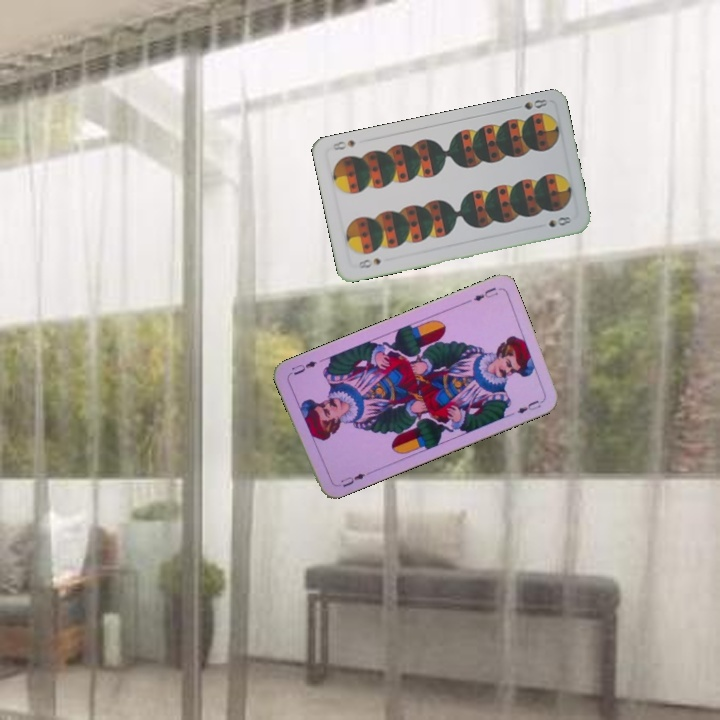EU: (332, 468, 371, 490), (469, 283, 501, 304)
S8: (520, 95, 550, 112), (355, 254, 383, 271)
